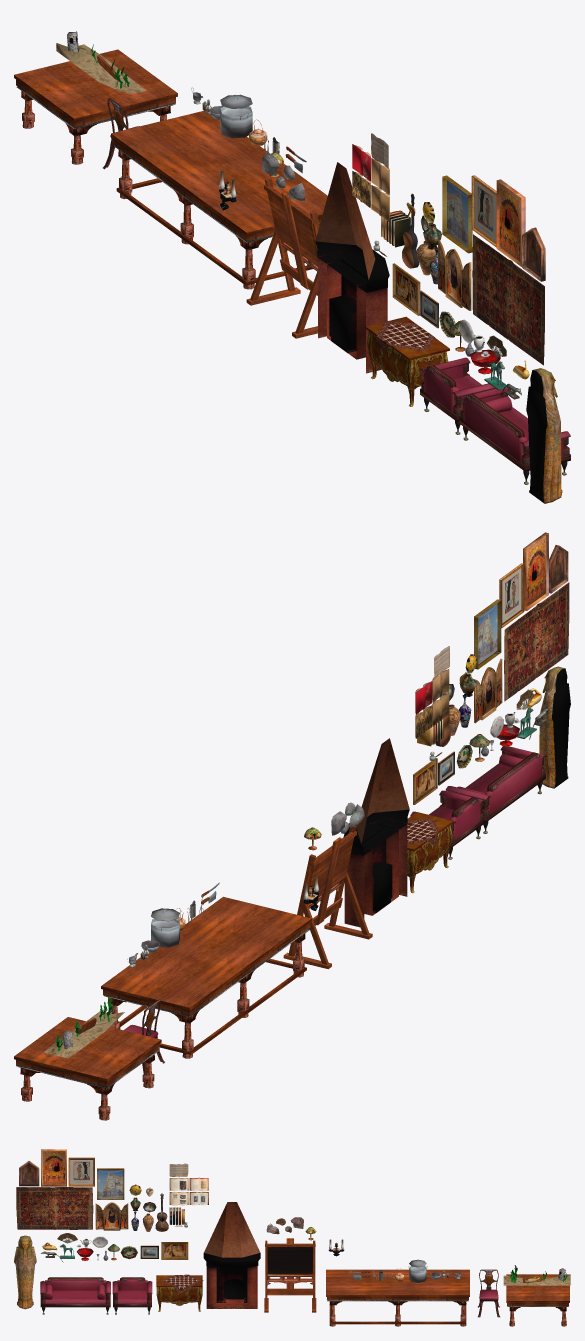
Rendered from AssestsPreencher.fbx.
3 views of the same model, one above another, from view 1: azimuth 30°, elevation 25°; view 2: azimuth 150°, elevation 25°; view 3: azimuth 270°, elevation 25° (orthographic). The views are drawn at different scales.
Parts seen in each view (by area): view 1: MesaBiblioteca, Lareira, MesaDeCentro, TapeteTurco, QuadroNegro, SofaGrande, Sarcofago, MesaDourada, Poltrona, QuadroCulto, Aquario, QuadroCastelo (+7 smaller); view 2: MesaBiblioteca, Lareira, MesaDeCentro, TapeteTurco, QuadroNegro, SofaGrande, Sarcofago, Poltrona, MesaDourada, QuadroCulto, Aquario, QuadroCastelo (+4 smaller); view 3: MesaBiblioteca, Lareira, TapeteTurco, QuadroNegro, SofaGrande, MesaDeCentro, Sarcofago, Poltrona, QuadroCulto, MesaDourada, QuadroCastelo, QuadroGrandeCachorro (+14 smaller).
Part boxes in pixels (bbox=[...]): MesaBiblioteca: bbox=[111, 110, 327, 289]; Lareira: bbox=[315, 162, 389, 373]; MesaDeCentro: bbox=[14, 49, 177, 164]; TapeteTurco: bbox=[472, 234, 544, 365]; QuadroNegro: bbox=[246, 178, 319, 338]; SofaGrande: bbox=[459, 388, 570, 484]; Sarcofago: bbox=[526, 368, 562, 503]; MesaDourada: bbox=[365, 316, 449, 406]; Poltrona: bbox=[419, 357, 495, 434]; QuadroCulto: bbox=[496, 179, 525, 266]; Aquario: bbox=[56, 31, 146, 93]; QuadroCastelo: bbox=[442, 175, 472, 253]; MesaBiblioteca: bbox=[101, 896, 311, 1058]; Lareira: bbox=[343, 738, 409, 927]; MesaDeCentro: bbox=[14, 1017, 161, 1120]; TapeteTurco: bbox=[504, 582, 569, 701]; QuadroNegro: bbox=[283, 826, 372, 969]; SofaGrande: bbox=[445, 746, 546, 833]; Sarcofago: bbox=[539, 666, 570, 788]; Poltrona: bbox=[410, 790, 484, 859]; MesaDourada: bbox=[407, 812, 453, 893]; QuadroCulto: bbox=[523, 532, 548, 610]; Aquario: bbox=[44, 997, 124, 1058]; QuadroCastelo: bbox=[474, 599, 501, 669]; MesaBiblioteca: bbox=[326, 1269, 469, 1326]; Lareira: bbox=[203, 1202, 260, 1308]; TapeteTurco: bbox=[16, 1187, 93, 1229]; QuadroNegro: bbox=[264, 1238, 316, 1312]; SofaGrande: bbox=[40, 1277, 110, 1314]; MesaDeCentro: bbox=[506, 1274, 569, 1326]; Sarcofago: bbox=[14, 1235, 36, 1309]; Poltrona: bbox=[112, 1277, 152, 1314]; QuadroCulto: bbox=[41, 1149, 66, 1186]; MesaDourada: bbox=[156, 1275, 202, 1311]; QuadroCastelo: bbox=[97, 1168, 124, 1199]; QuadroGrandeCachorro: bbox=[68, 1157, 94, 1186].
Size of the model in its own units: 2.22 by 5.35 by 17.5.
